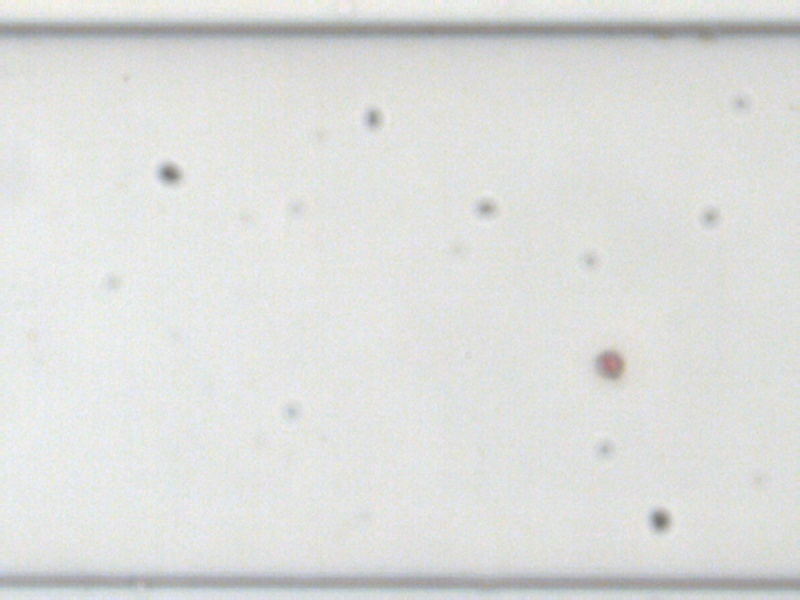Porphyridium: (593, 347, 624, 381)
